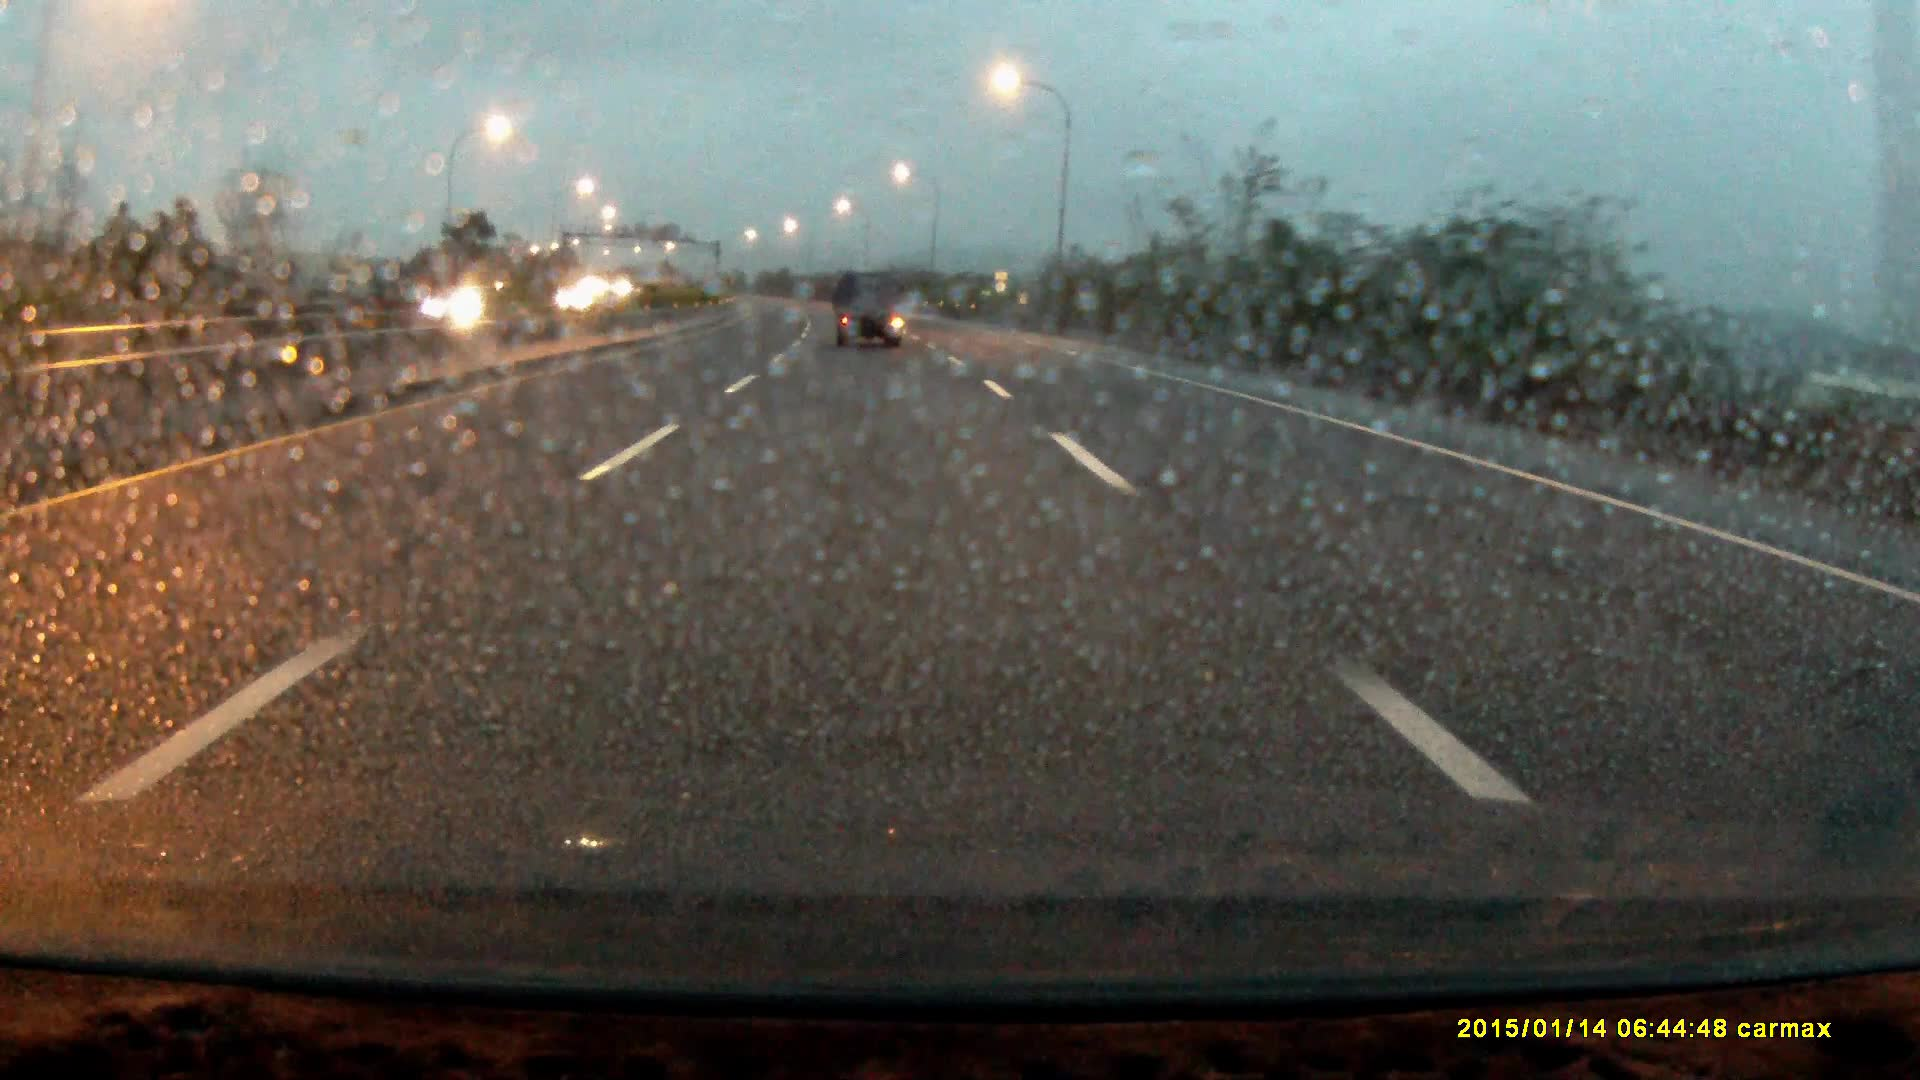vehicle: (835, 276, 905, 351), (411, 287, 502, 328)
